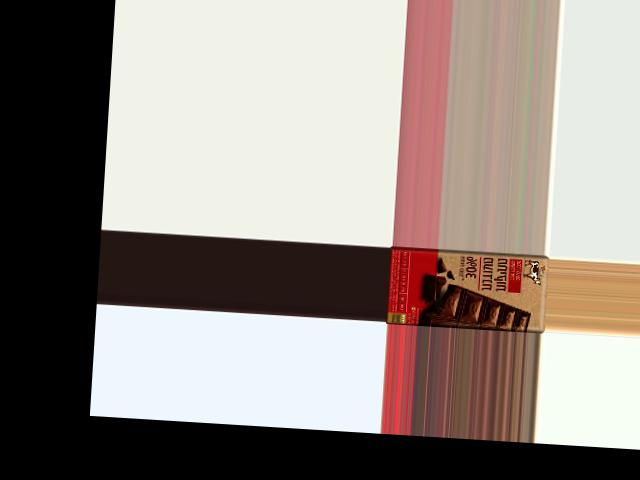chocolate: (386, 245, 549, 333)
